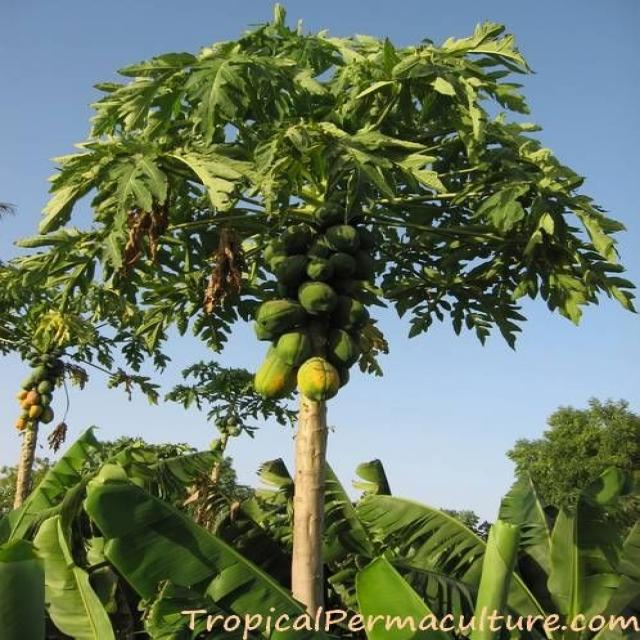Papaya-Tree: (35, 31, 621, 422)
